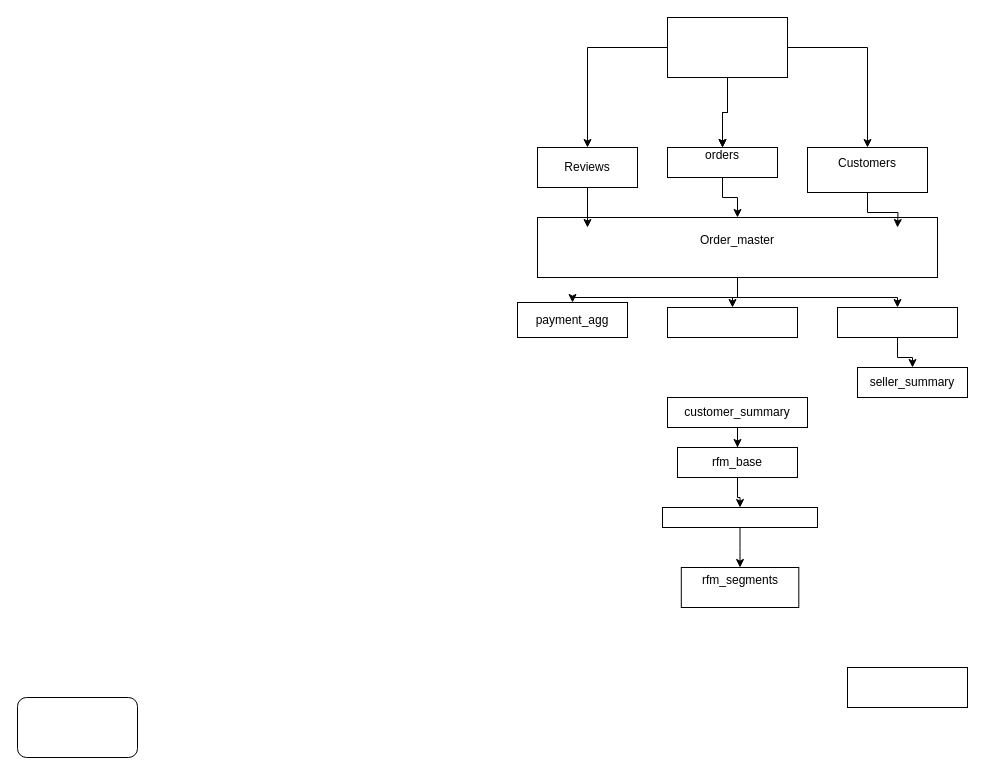
Some shapes in this 985 by 775 pixel diagram are drawn without their labels. Each missing label, with the centre of its shape:
cohort_analysis: (907,687)
delivery_metrics: (732,322)
ecommerce Schema: (727,47)
product_master: (897,322)
rfm_scored: (740,517)
